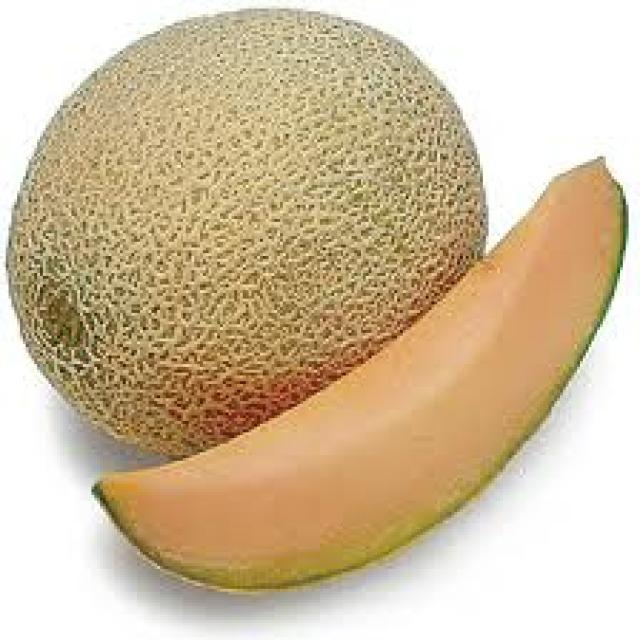melon: (3, 0, 626, 600)
